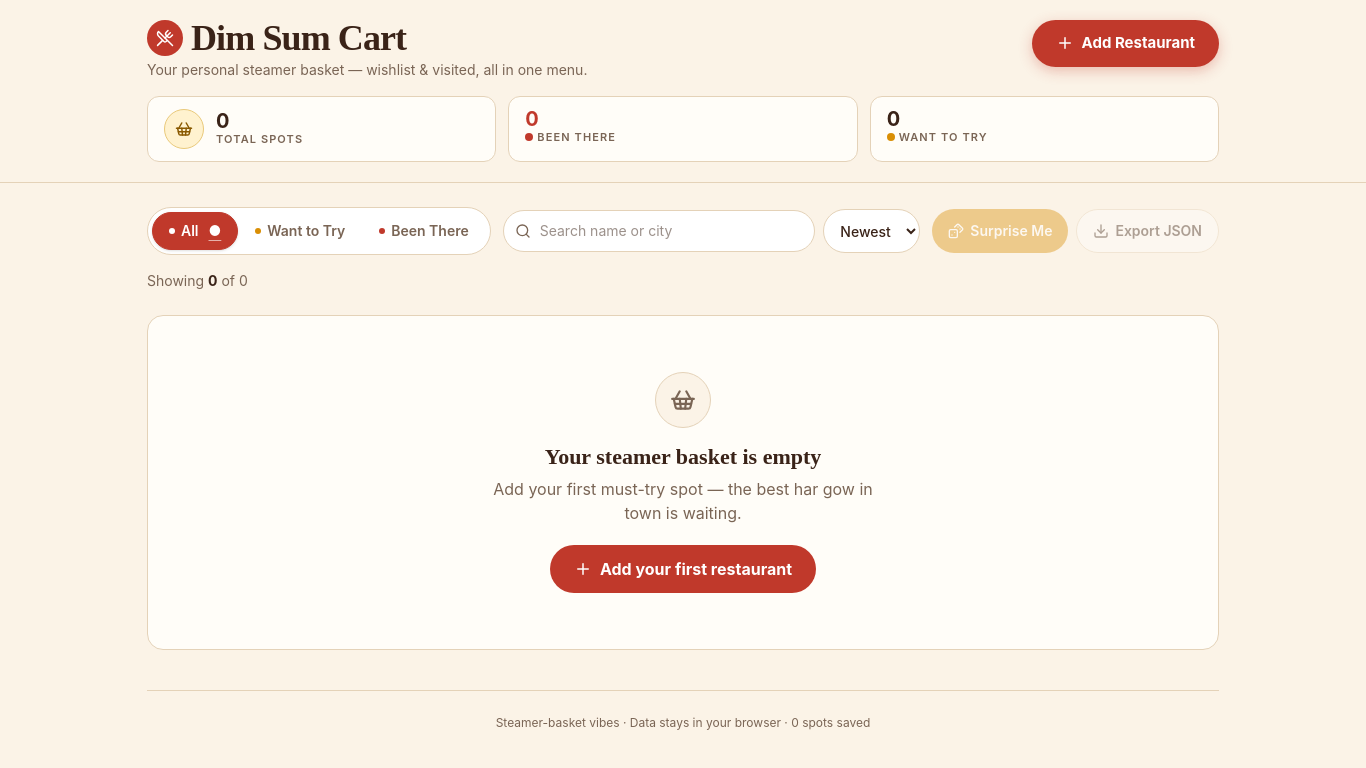
SummaryBar › updates on change
Click the button "Add Restaurant" at x=1125, y=43, box [1032,20,1219,66]
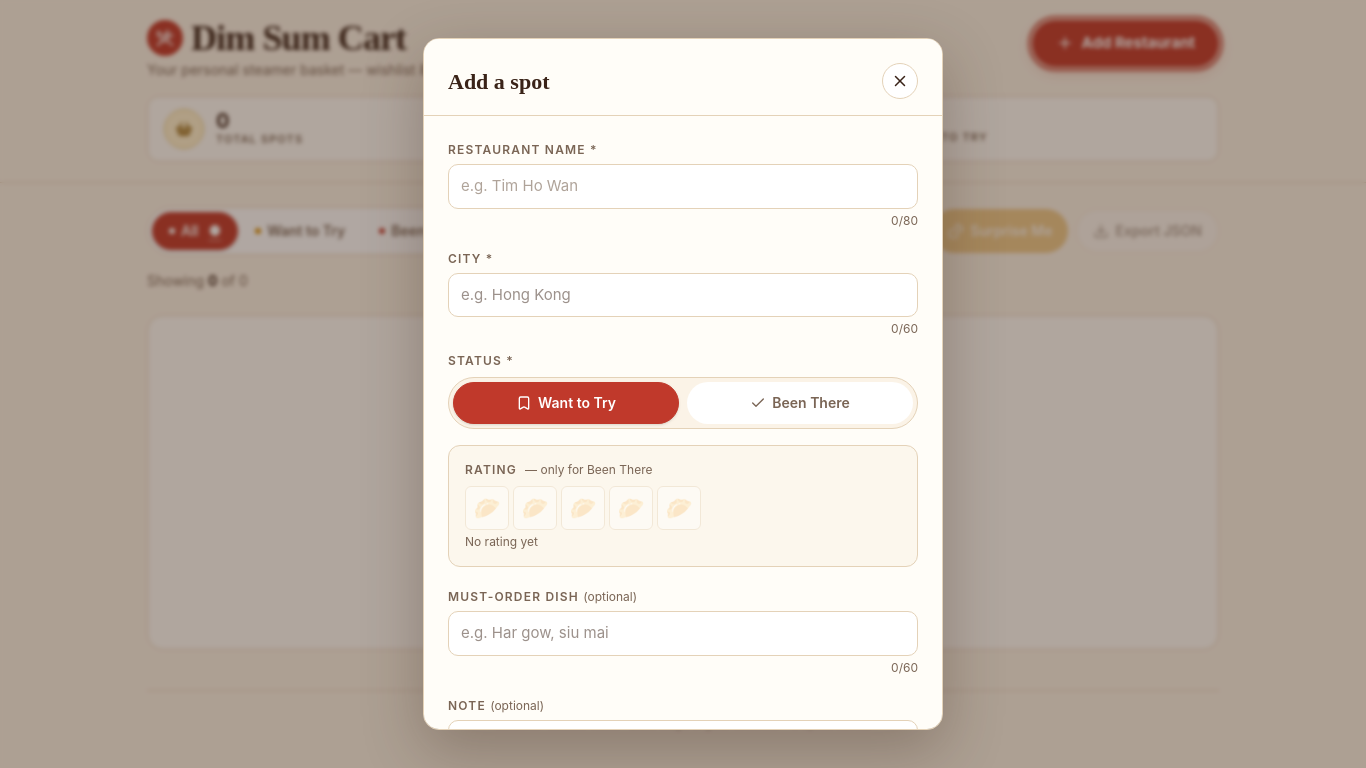
Type "S2" into the field labelled "Restaurant name *" at x=683, y=187, box [448,164,918,209]
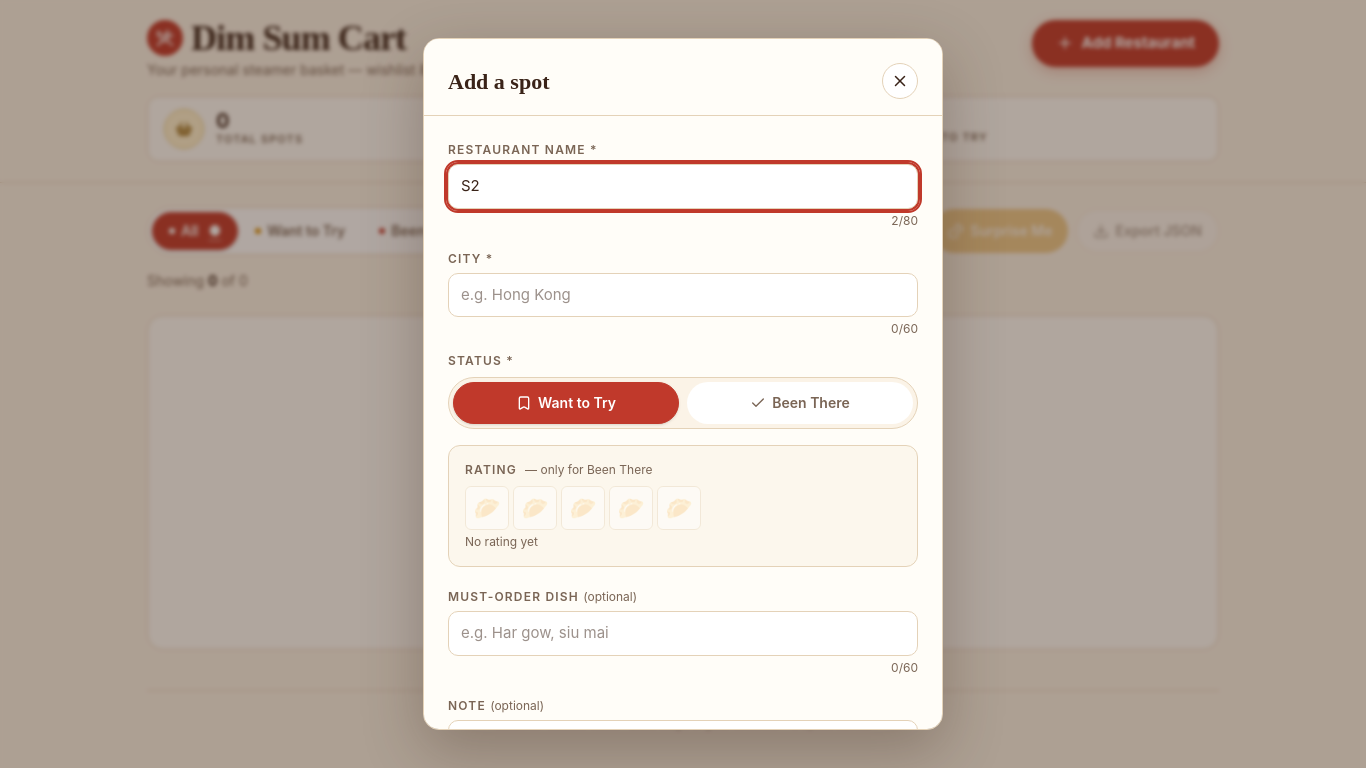
Type "HK" into the field labelled "City *" at x=683, y=295, box [448,273,918,317]
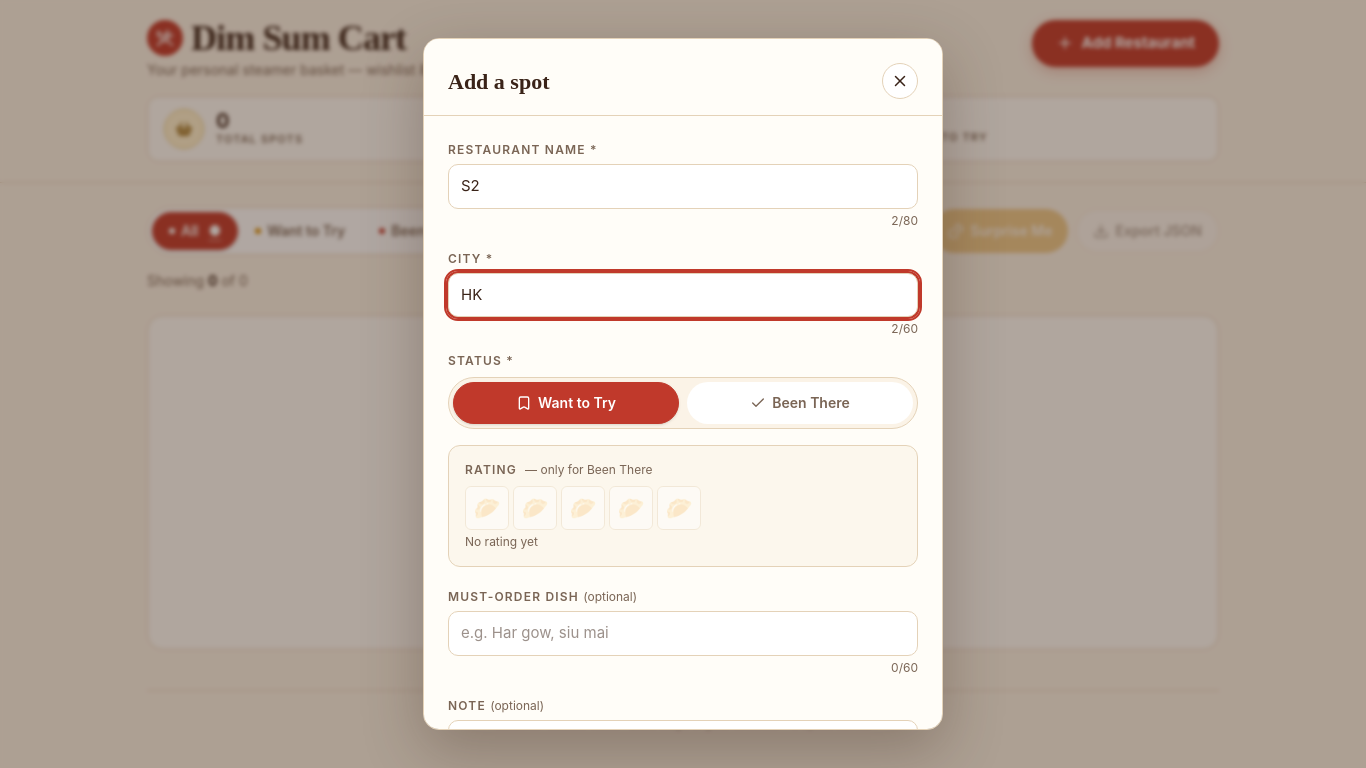
Click the button "Been There" at x=800, y=403, box [687,382,913,424]
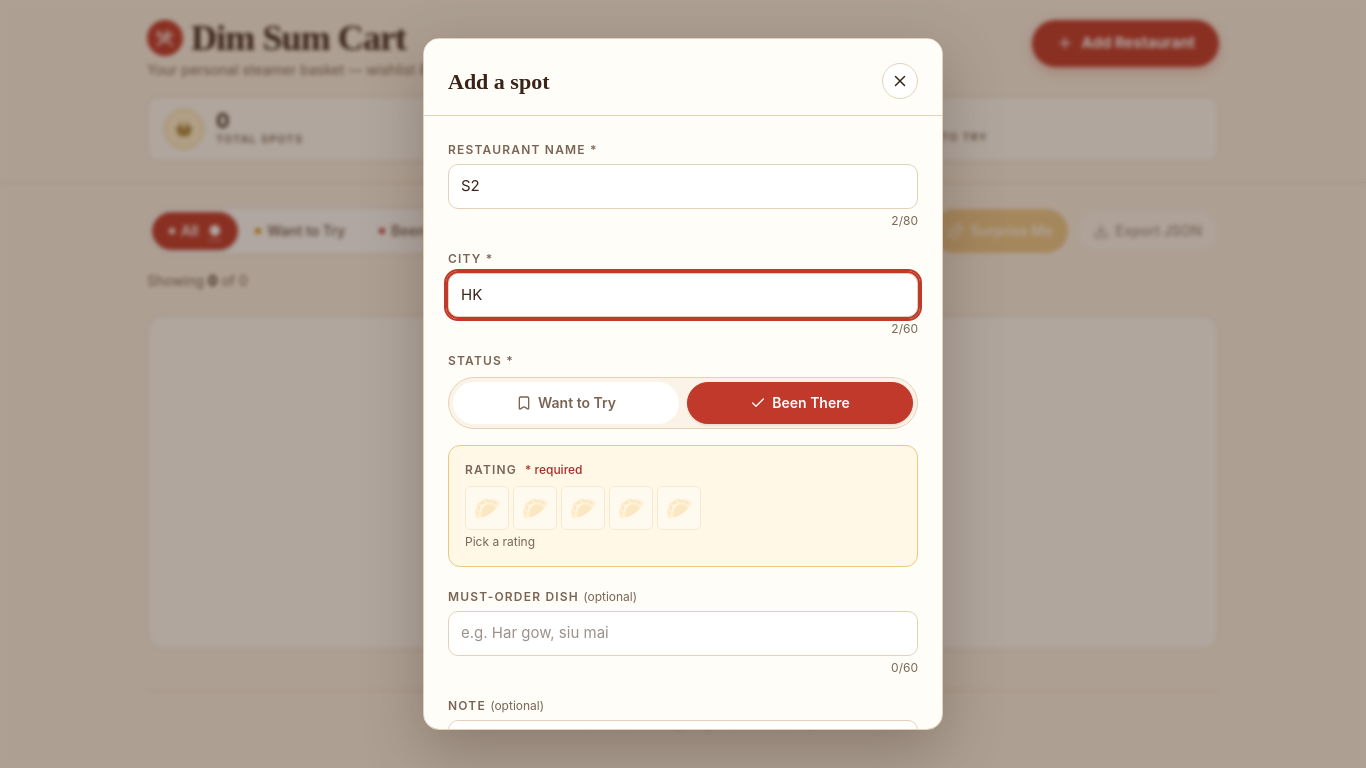
Click the radio button named "5 of 5 dumplings" at x=679, y=508, box [657,486,701,530]
(page scrolled)
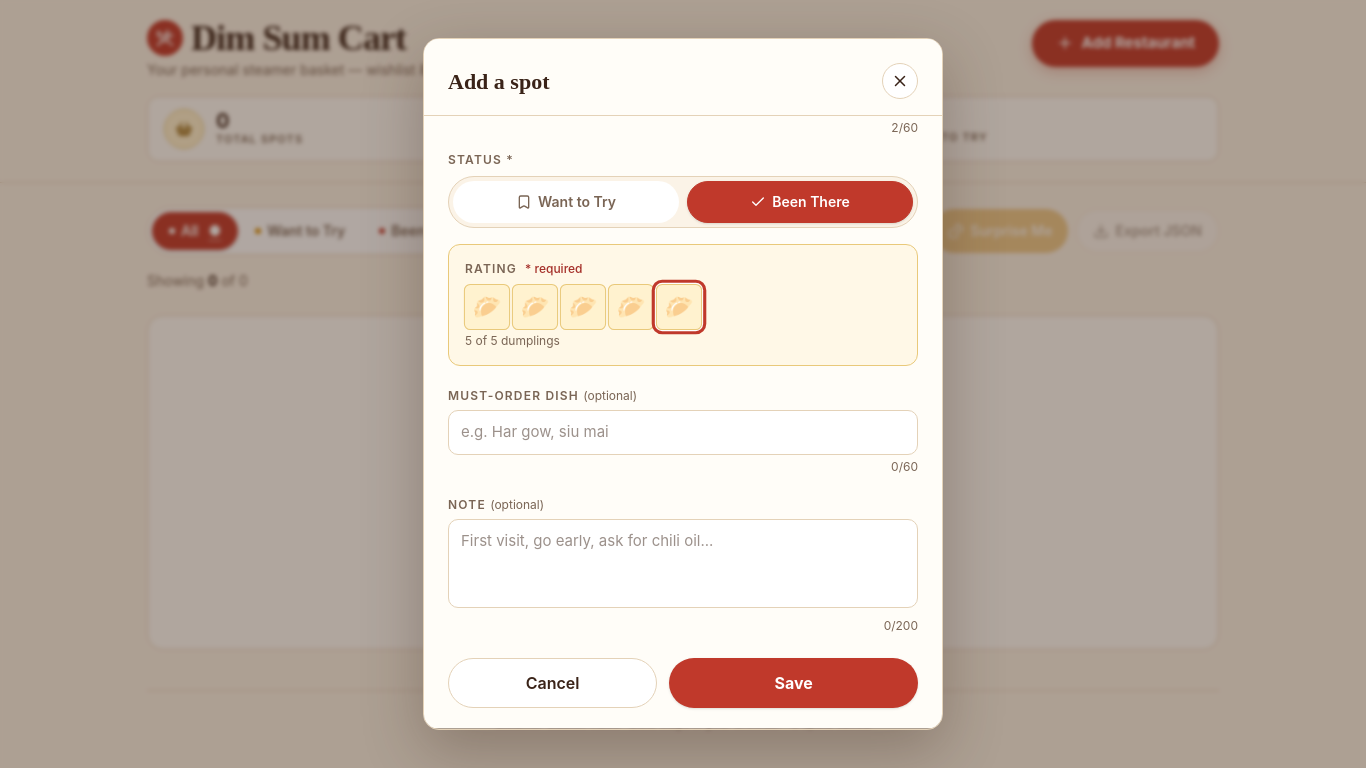
Click the button "Save" at x=794, y=683, box [669,658,918,708]
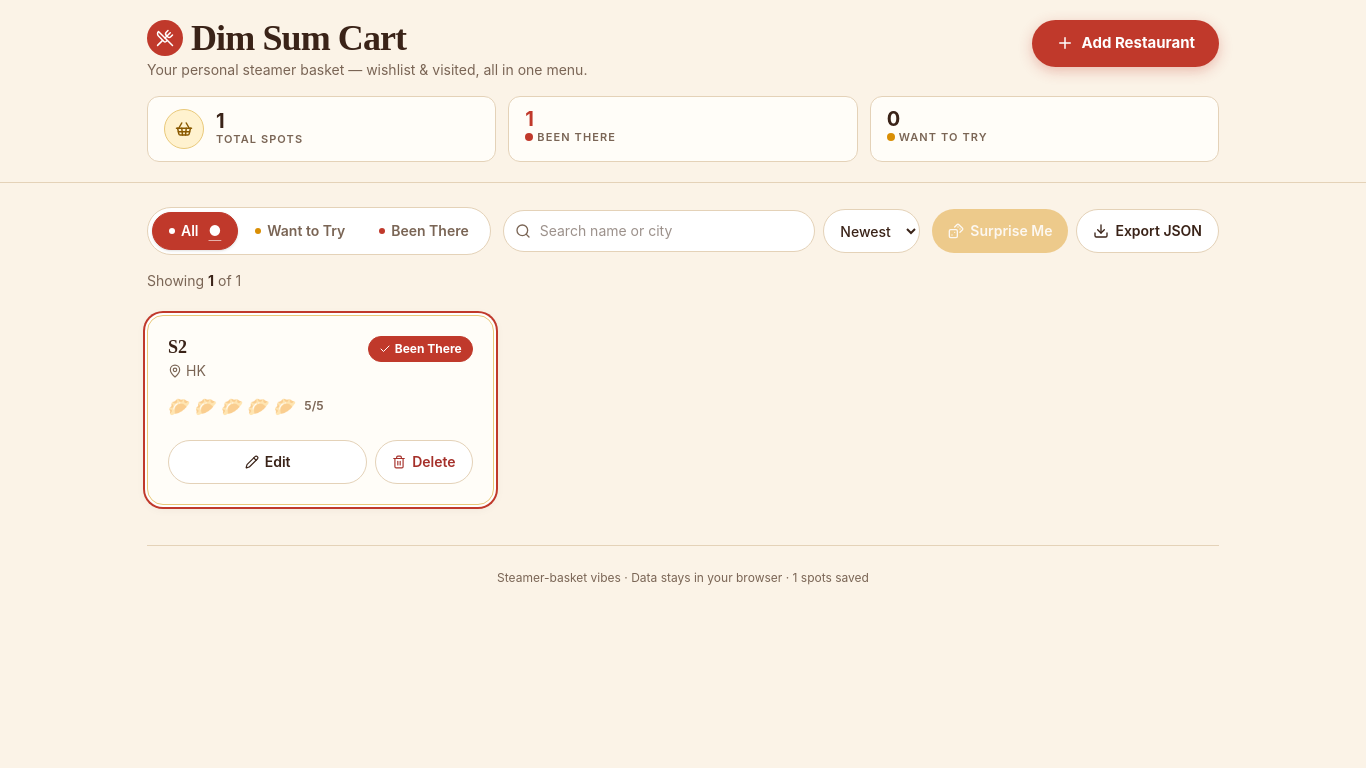
expect the text "Total spots" is shown: met, box [216,131,303,147]
expect the heading "S2" is shown: met, box [168,337,187,357]
